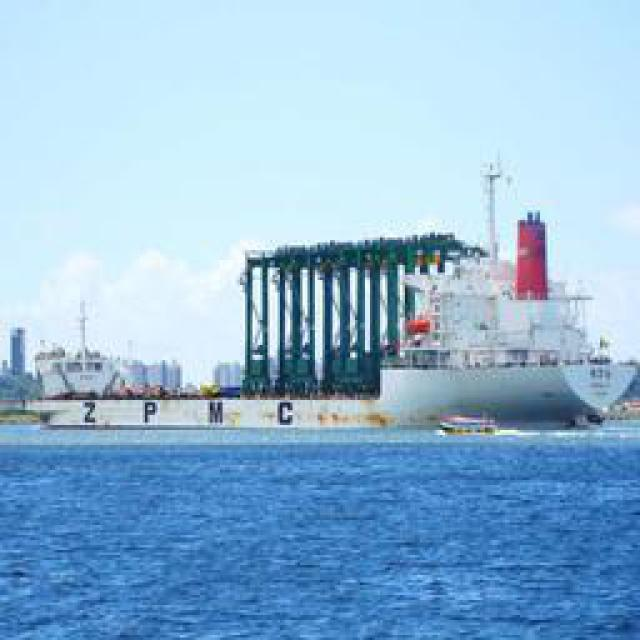Ship: (54, 175, 619, 435)
